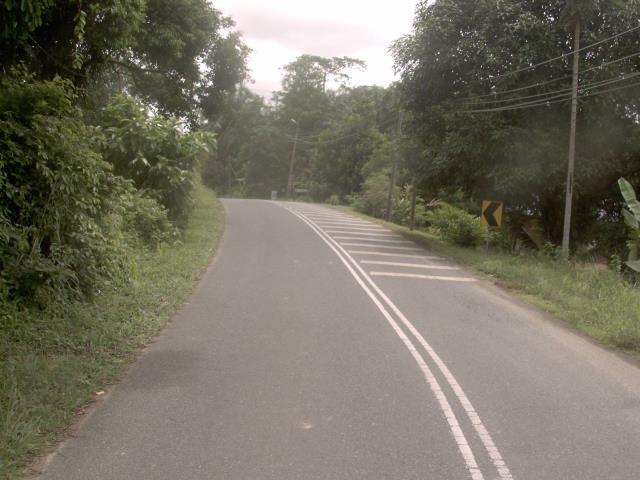traffic_sign: (476, 195, 509, 234)
